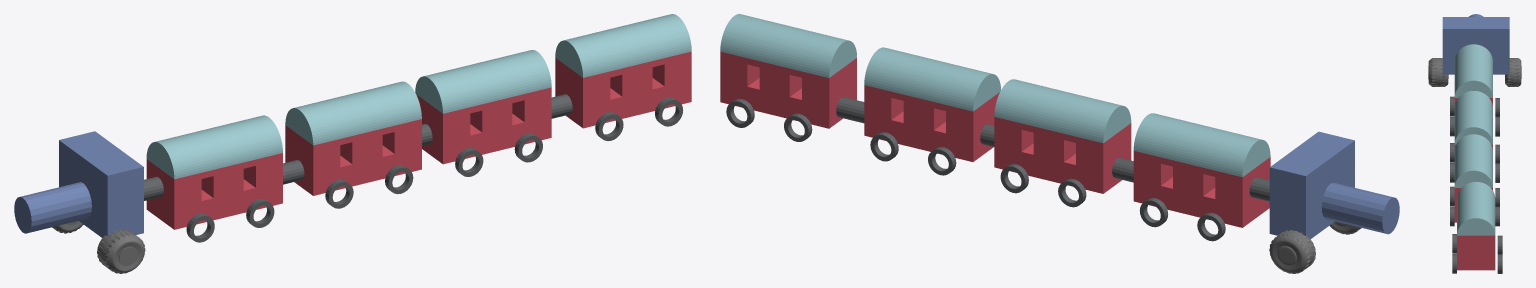
Rendered from train.glb.
The picture shows the model from 3 angles, left to right: view 1: azimuth 30°, elevation 25°; view 2: azimuth 150°, elevation 25°; view 3: azimuth 270°, elevation 25°; orthographic projection. The views are drawn at different scales.
Visible parts, largest first — view 1: Mesh_Mesh_head_geo.001_lambert2SG.001; view 2: Mesh_Mesh_head_geo.001_lambert2SG.001; view 3: Mesh_Mesh_head_geo.001_lambert2SG.001.
Part boxes in pixels (box(x1,y1,x2,y2)): Mesh_Mesh_head_geo.001_lambert2SG.001: box(14, 14, 691, 273); Mesh_Mesh_head_geo.001_lambert2SG.001: box(720, 14, 1399, 273); Mesh_Mesh_head_geo.001_lambert2SG.001: box(1428, 14, 1521, 273).
Bounding box in the file's own units: 217 × 30 × 39.
